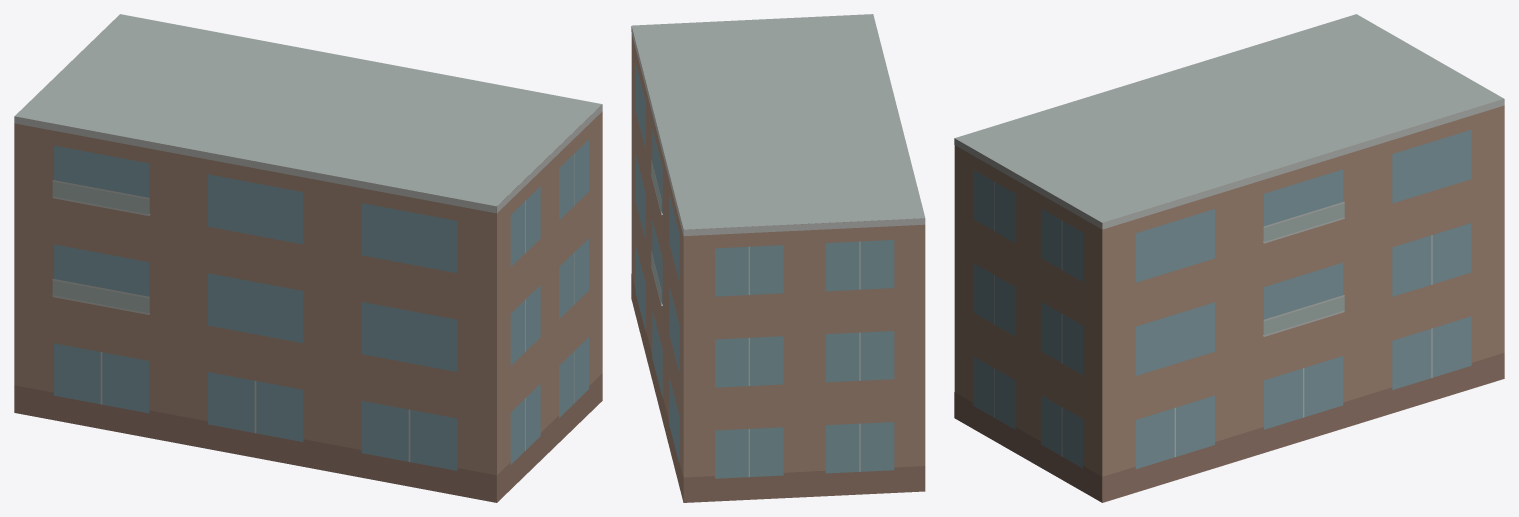
The model's file is survey-upis-32805771.glb.
The picture shows the model from 3 angles, left to right: view 1: azimuth 30°, elevation 25°; view 2: azimuth 150°, elevation 25°; view 3: azimuth 270°, elevation 25°; orthographic projection. The views are drawn at different scales.
Parts seen in each view (by area): view 1: survey-upis-32805771.tmp; view 2: survey-upis-32805771.tmp; view 3: survey-upis-32805771.tmp.
Part boxes in pixels (<box>): survey-upis-32805771.tmp: <box>14,14,602,502</box>; survey-upis-32805771.tmp: <box>631,14,925,502</box>; survey-upis-32805771.tmp: <box>954,14,1504,502</box>.
Bounding box in the file's own units: 16.42 × 10.25 × 18.26.
